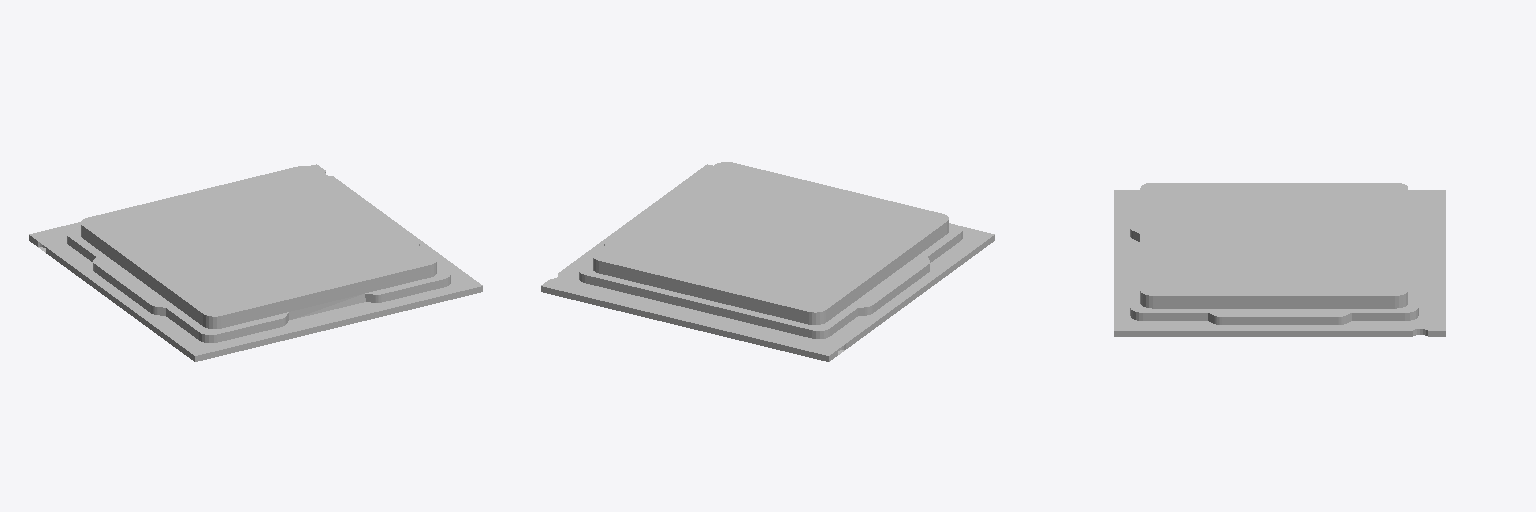
The picture shows the model from 3 angles: view 1: azimuth 30°, elevation 25°; view 2: azimuth 150°, elevation 25°; view 3: azimuth 270°, elevation 25°; orthographic projection.
Visible parts, largest first — view 1: i7_9700K3, PCB; view 2: i7_9700K3, PCB; view 3: i7_9700K3, PCB.
Boxes of the visible parts, x1,y1,x2,y2 form: i7_9700K3: [67, 166, 450, 342]; PCB: [29, 164, 482, 361]; i7_9700K3: [579, 162, 962, 338]; PCB: [541, 164, 994, 361]; i7_9700K3: [1130, 183, 1418, 324]; PCB: [1114, 190, 1445, 336].
Size of the model in its own units: 6.29 by 0.6981 by 6.29.